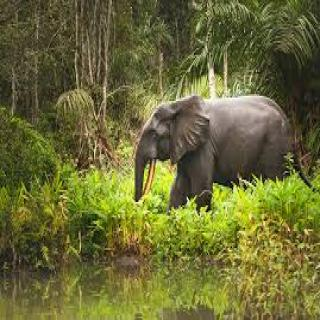Elephant: (129, 92, 320, 213)
